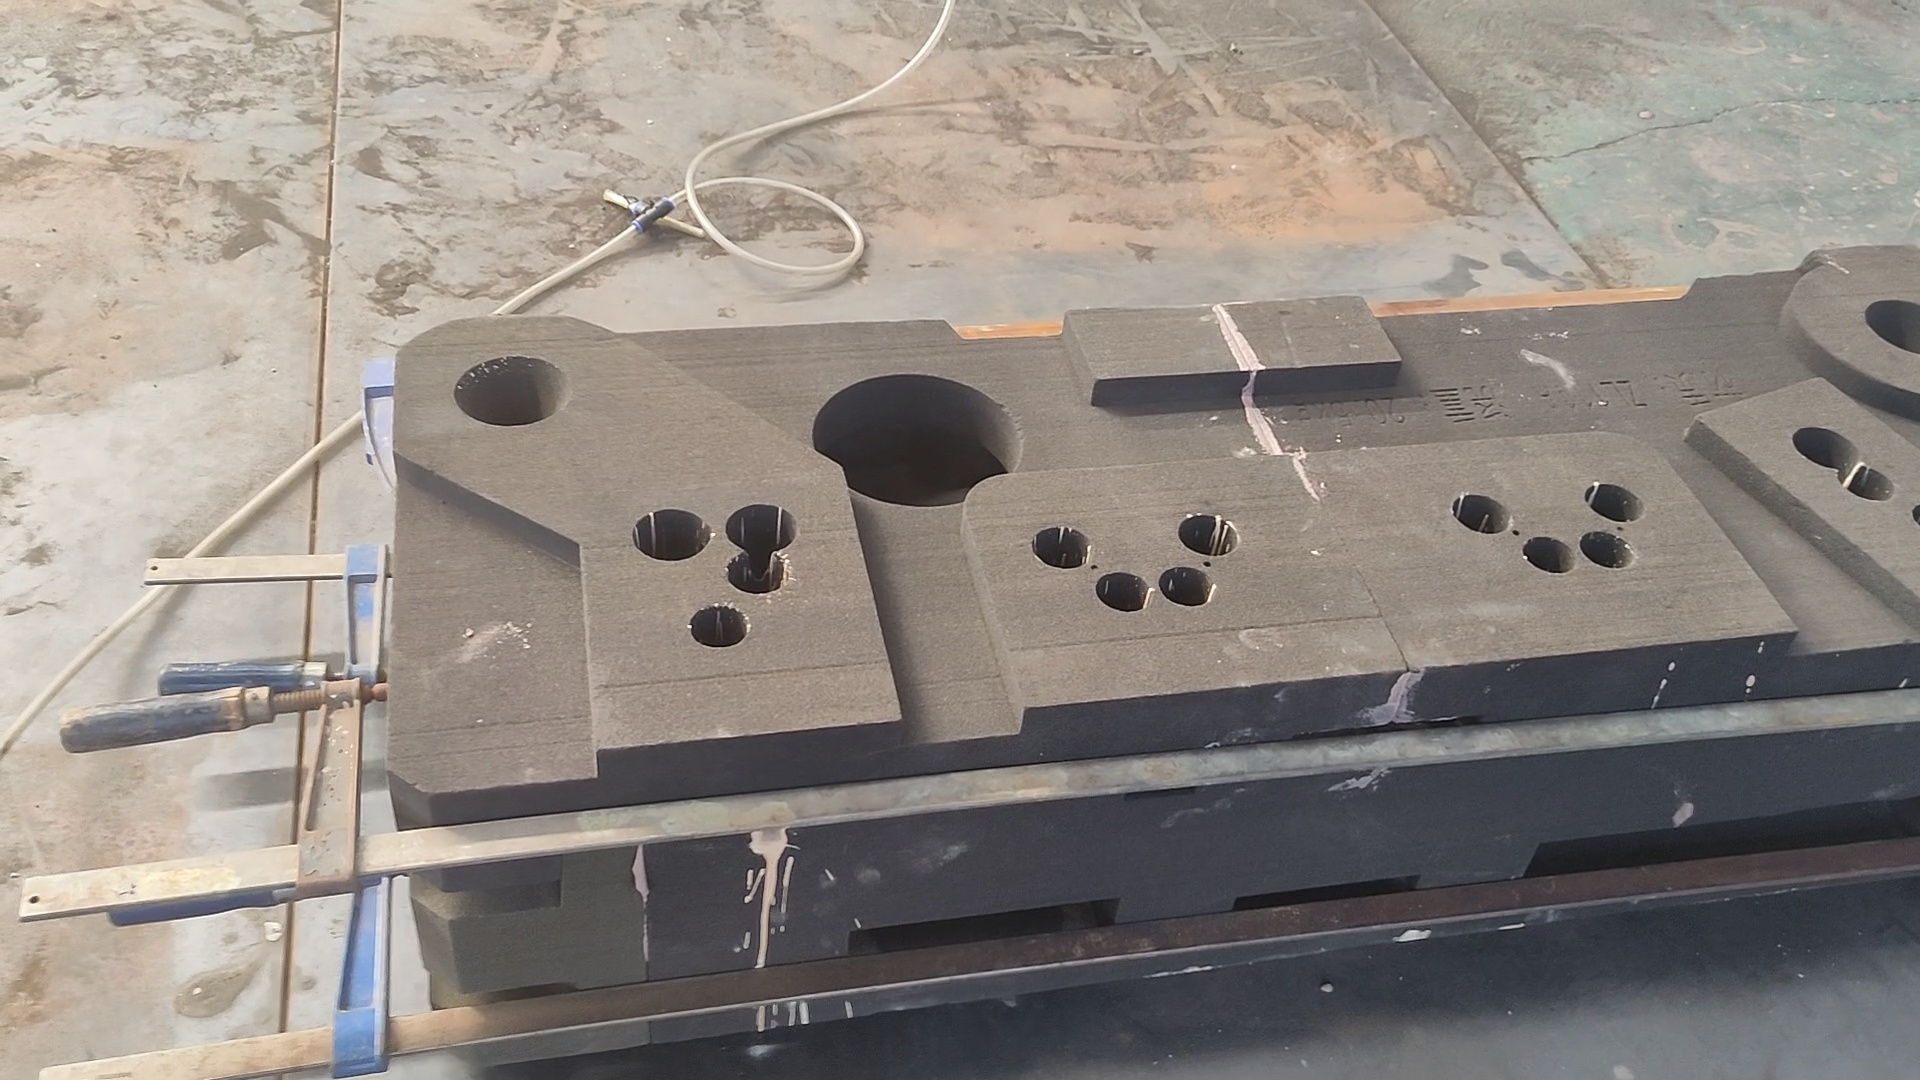pouring hole: (454, 355, 570, 429), (1861, 299, 1920, 353)
